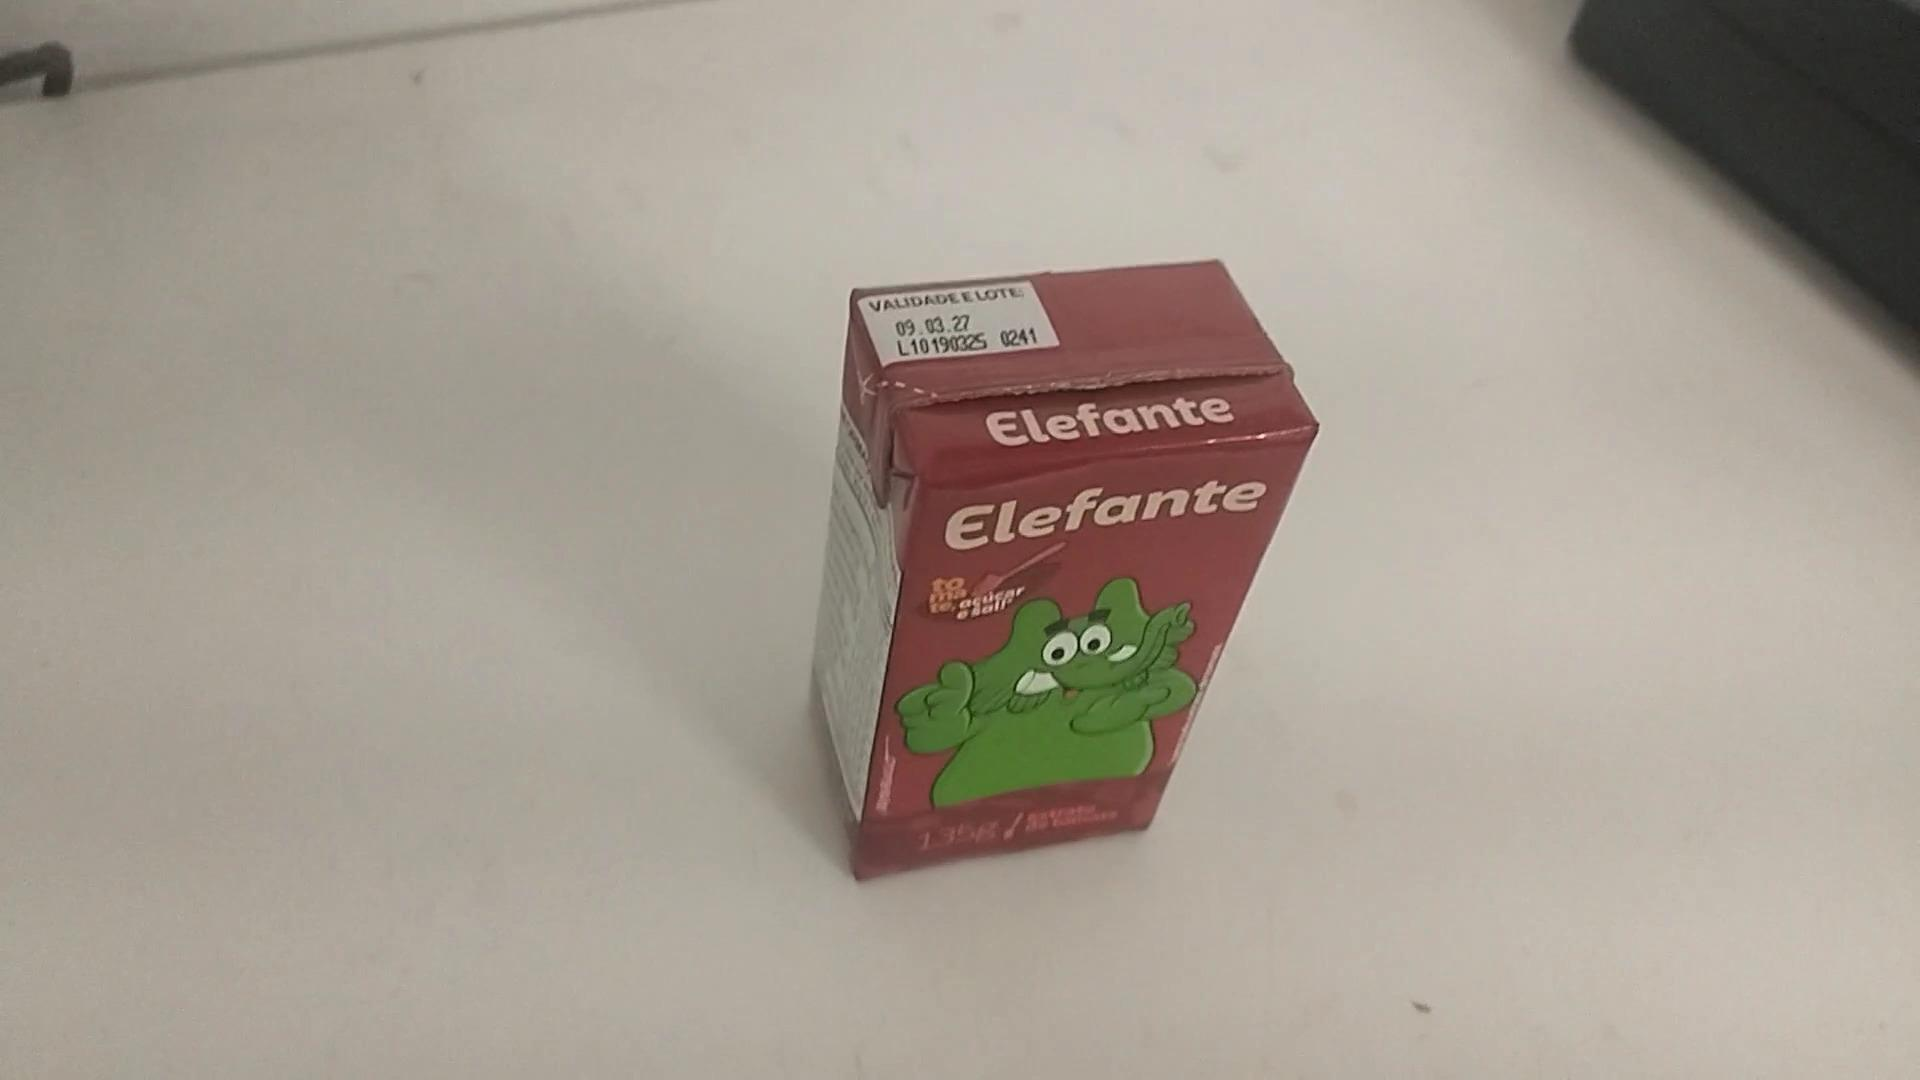tomate: (800, 249, 1323, 881)
